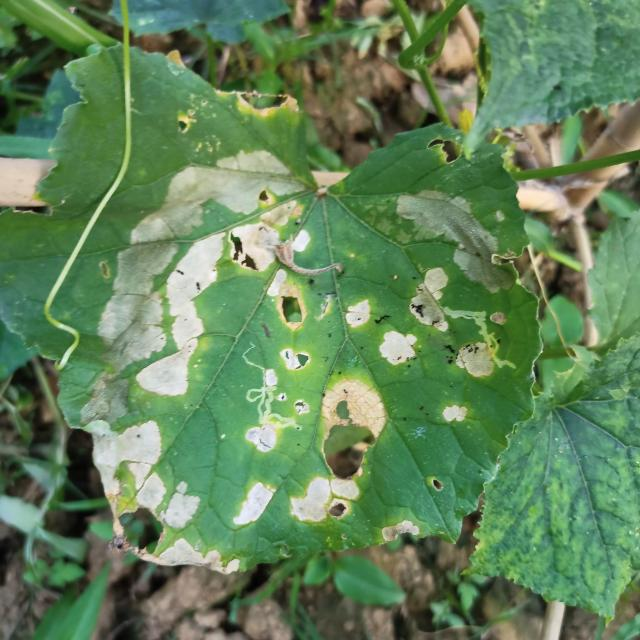disease_cucumber: (82, 386, 424, 564), (95, 146, 323, 400), (334, 180, 517, 433)
